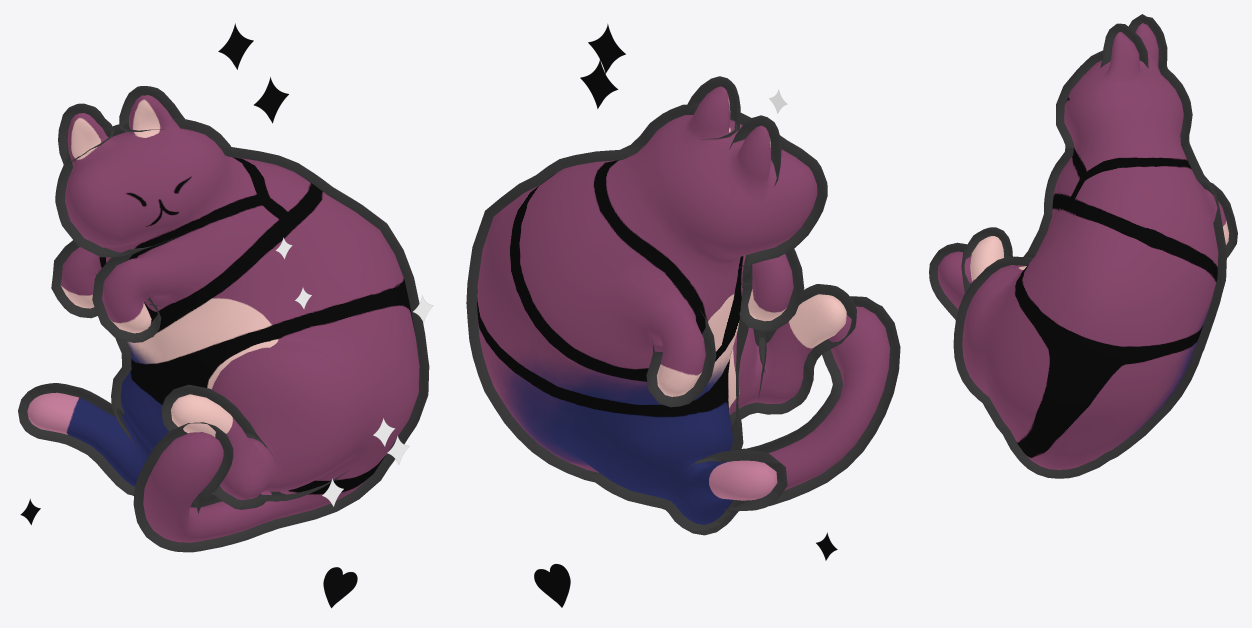
The model's file is first cat.gltf.
The picture shows the model from 3 angles, left to right: view 1: azimuth 30°, elevation 25°; view 2: azimuth 150°, elevation 25°; view 3: azimuth 270°, elevation 25°; orthographic projection. The views are drawn at different scales.
Parts seen in each view (by area): view 1: polySurface8, polySurface7, pPlane26, pPlane1, pPlane18; view 2: polySurface8, polySurface7, pPlane26, pPlane1, pPlane18; view 3: polySurface8, polySurface7.
Part boxes in pixels (x1,y1,x2,y2): polySurface8: [27, 95, 419, 542]; polySurface7: [18, 86, 429, 552]; pPlane26: [323, 567, 357, 608]; pPlane1: [218, 23, 253, 69]; pPlane18: [253, 77, 288, 123]; polySurface8: [477, 86, 890, 524]; polySurface7: [466, 76, 900, 535]; pPlane26: [534, 564, 570, 607]; pPlane1: [588, 24, 625, 73]; pPlane18: [580, 60, 618, 109]; polySurface8: [937, 23, 1229, 469]; polySurface7: [929, 14, 1237, 478].
Size of the model in its own units: 1.13 by 1.76 by 0.9162.
3 materials, 2 textured.
